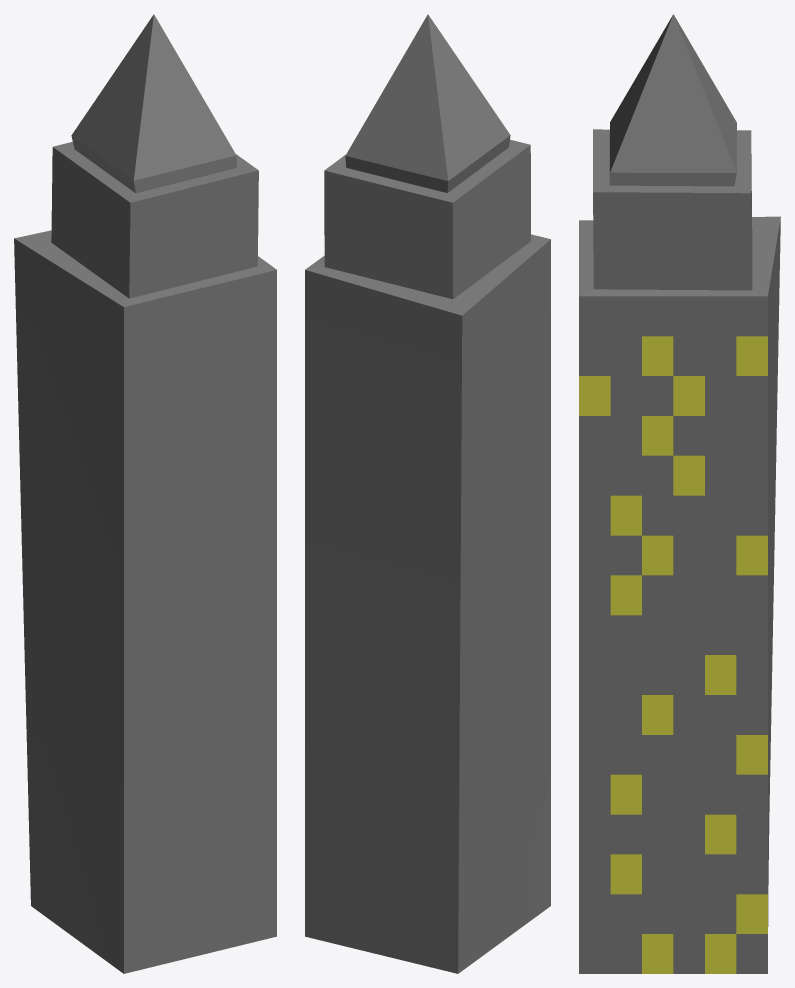
File: Skyscraper3.fbx
3 views of the same model, side by side, from view 1: azimuth 30°, elevation 25°; view 2: azimuth 150°, elevation 25°; view 3: azimuth 270°, elevation 25° (orthographic).
Visible parts, largest first — view 1: Box019; view 2: Box019; view 3: Box019.
Part boxes in pixels (x1,y1,x2,y2): Box019: (14,14,276,973); Box019: (305,14,550,973); Box019: (579,14,780,973).
Size of the model in its own units: 932 by 4938 by 979.
